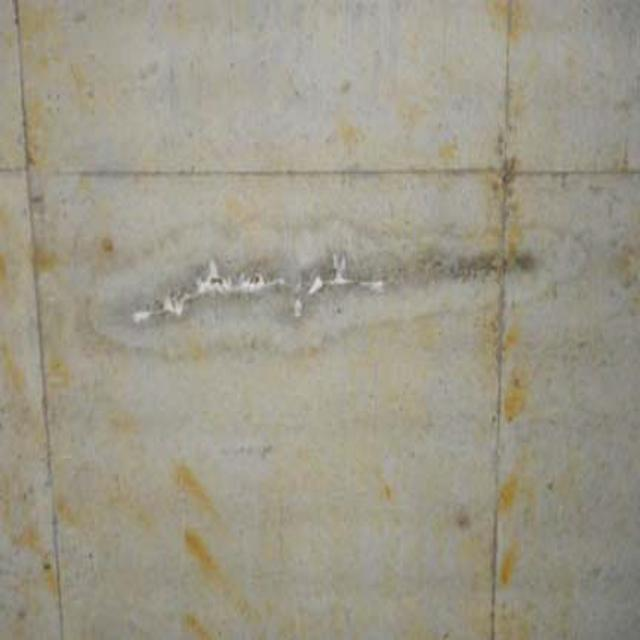freelime: (97, 228, 424, 333)
